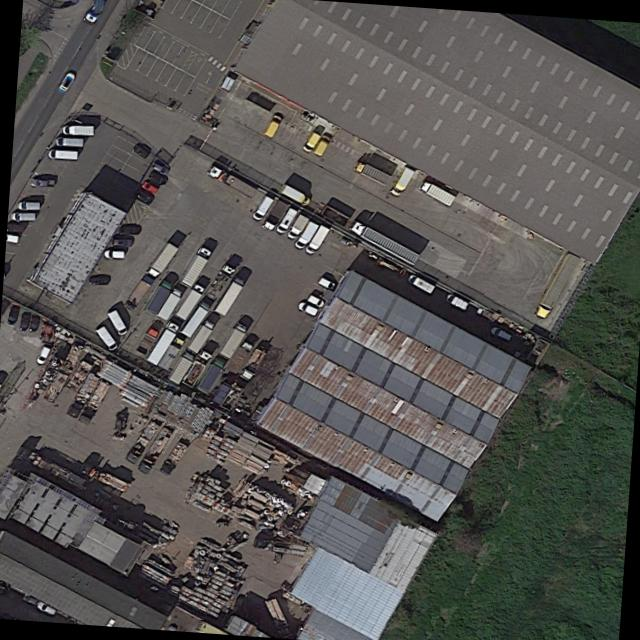large-vehicle: (13, 442, 90, 493), (344, 216, 420, 267), (531, 249, 580, 320), (203, 162, 257, 199), (135, 424, 173, 474), (142, 317, 180, 366), (123, 416, 161, 464), (77, 459, 130, 493), (75, 375, 110, 426), (175, 243, 212, 289), (64, 370, 99, 418), (210, 272, 246, 317), (142, 239, 179, 280), (170, 280, 206, 321), (201, 260, 236, 302), (178, 346, 213, 388), (176, 299, 212, 339), (214, 319, 249, 360), (193, 354, 226, 395), (183, 316, 216, 356), (121, 272, 154, 311), (236, 343, 268, 382), (415, 176, 455, 207), (154, 334, 186, 372), (156, 438, 188, 476), (222, 338, 254, 376), (350, 158, 391, 187), (142, 277, 173, 315), (252, 535, 307, 556), (164, 348, 195, 385), (258, 196, 289, 232), (154, 285, 184, 322), (385, 163, 414, 199), (275, 181, 312, 208), (300, 222, 329, 256), (290, 218, 318, 250), (132, 325, 159, 355), (282, 211, 309, 241), (272, 205, 298, 236), (92, 321, 118, 352), (404, 271, 435, 295), (248, 193, 273, 222), (104, 307, 128, 336), (80, 0, 105, 25), (109, 409, 128, 441), (442, 290, 469, 312), (260, 111, 282, 138), (309, 131, 331, 157), (299, 128, 320, 153), (59, 123, 93, 136)
small-vehicle: (55, 69, 76, 94), (32, 598, 57, 616), (487, 324, 512, 341), (294, 299, 317, 317), (46, 147, 77, 160), (32, 344, 50, 366), (146, 169, 167, 185), (54, 135, 82, 147), (4, 304, 19, 326), (133, 188, 152, 205), (315, 275, 335, 291), (130, 142, 150, 158), (304, 292, 323, 308), (149, 160, 169, 175), (139, 179, 158, 194), (16, 310, 29, 331), (9, 211, 35, 221), (29, 177, 54, 187), (109, 237, 133, 247), (99, 249, 123, 259), (15, 200, 39, 210), (116, 225, 139, 235), (86, 275, 108, 285), (27, 313, 39, 331), (20, 593, 37, 604)
